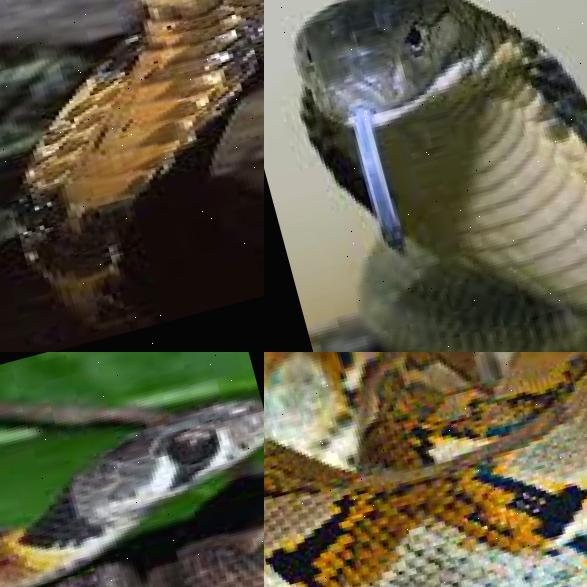snake: (264, 0, 587, 352), (0, 0, 264, 352), (264, 352, 587, 587), (0, 352, 264, 587)
